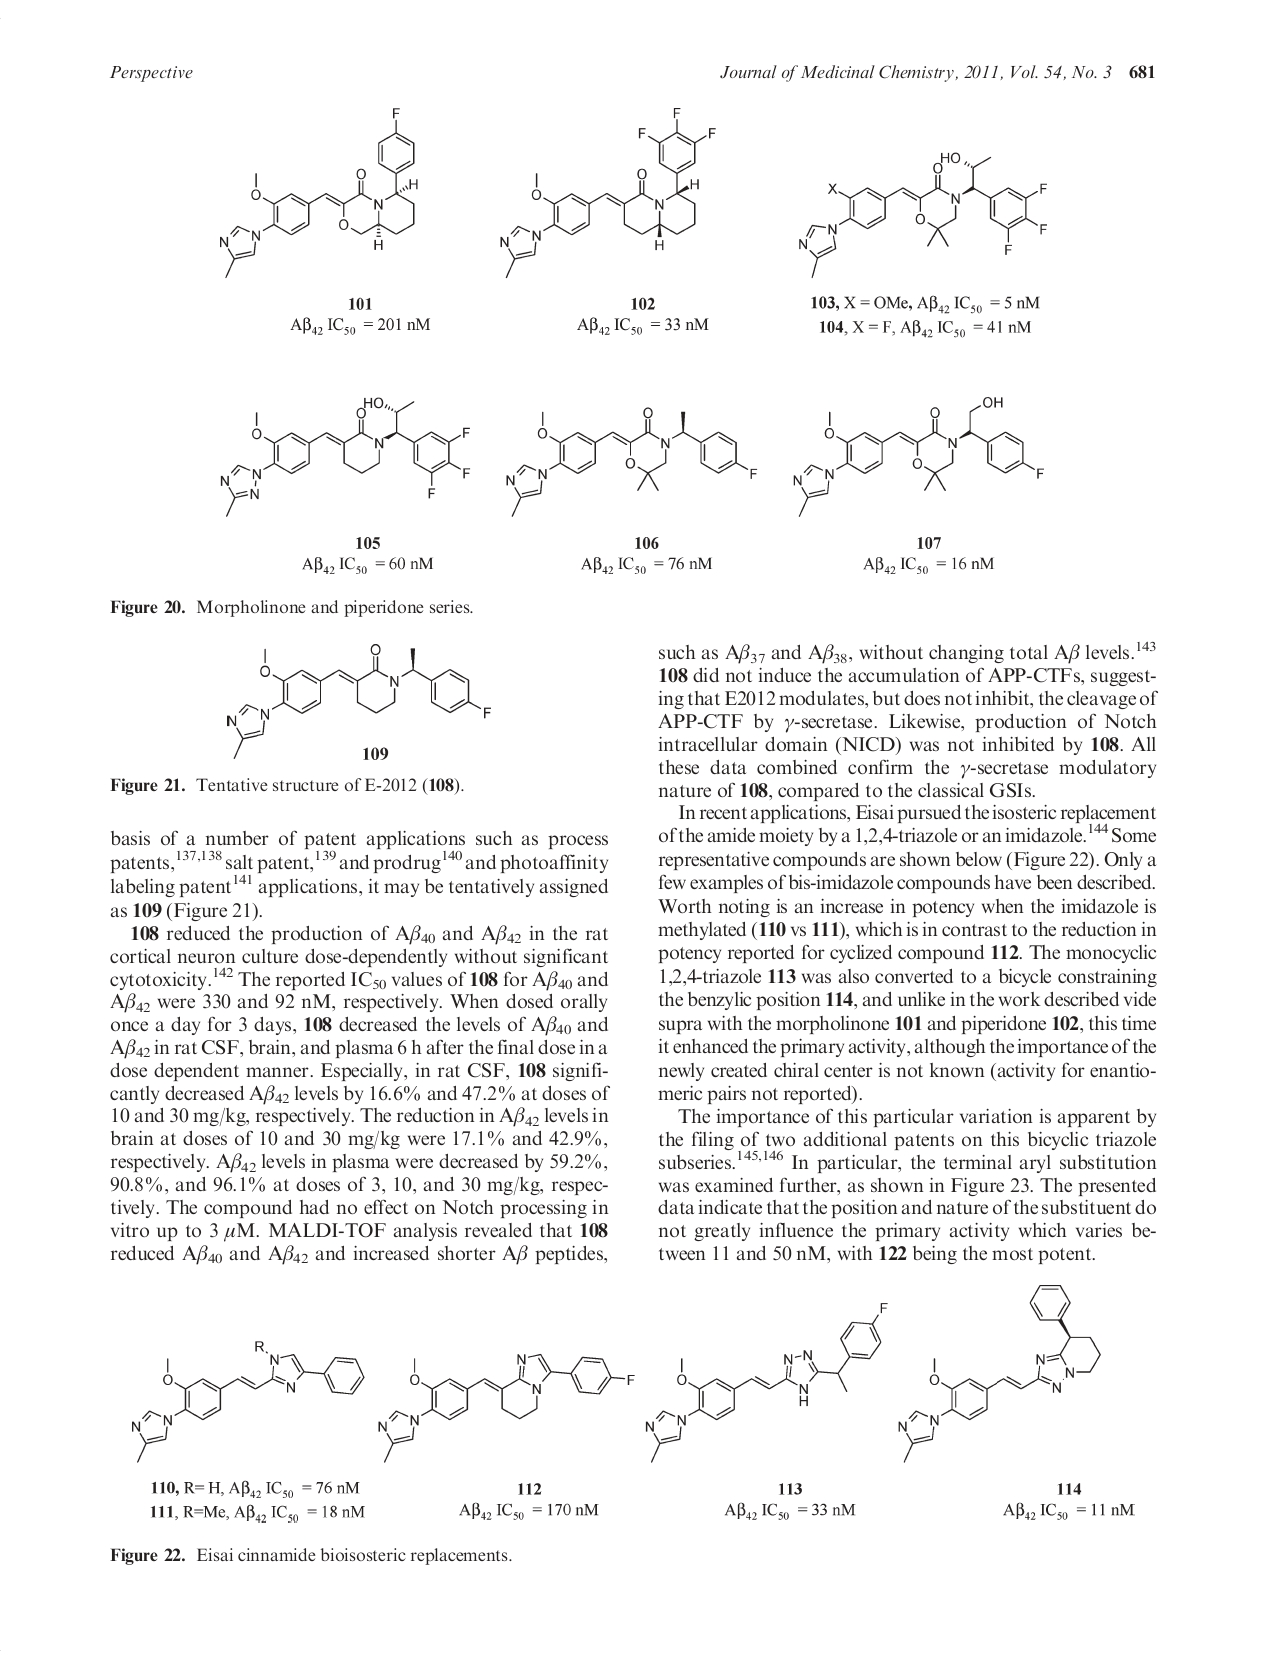exist_molecular: (645, 1301, 890, 1464), (496, 105, 719, 283), (210, 102, 432, 278), (896, 1283, 1102, 1466), (797, 149, 1055, 282), (215, 394, 477, 519), (222, 641, 496, 759), (789, 394, 1049, 516), (376, 1345, 636, 1466), (128, 1337, 364, 1463), (505, 406, 755, 517)
